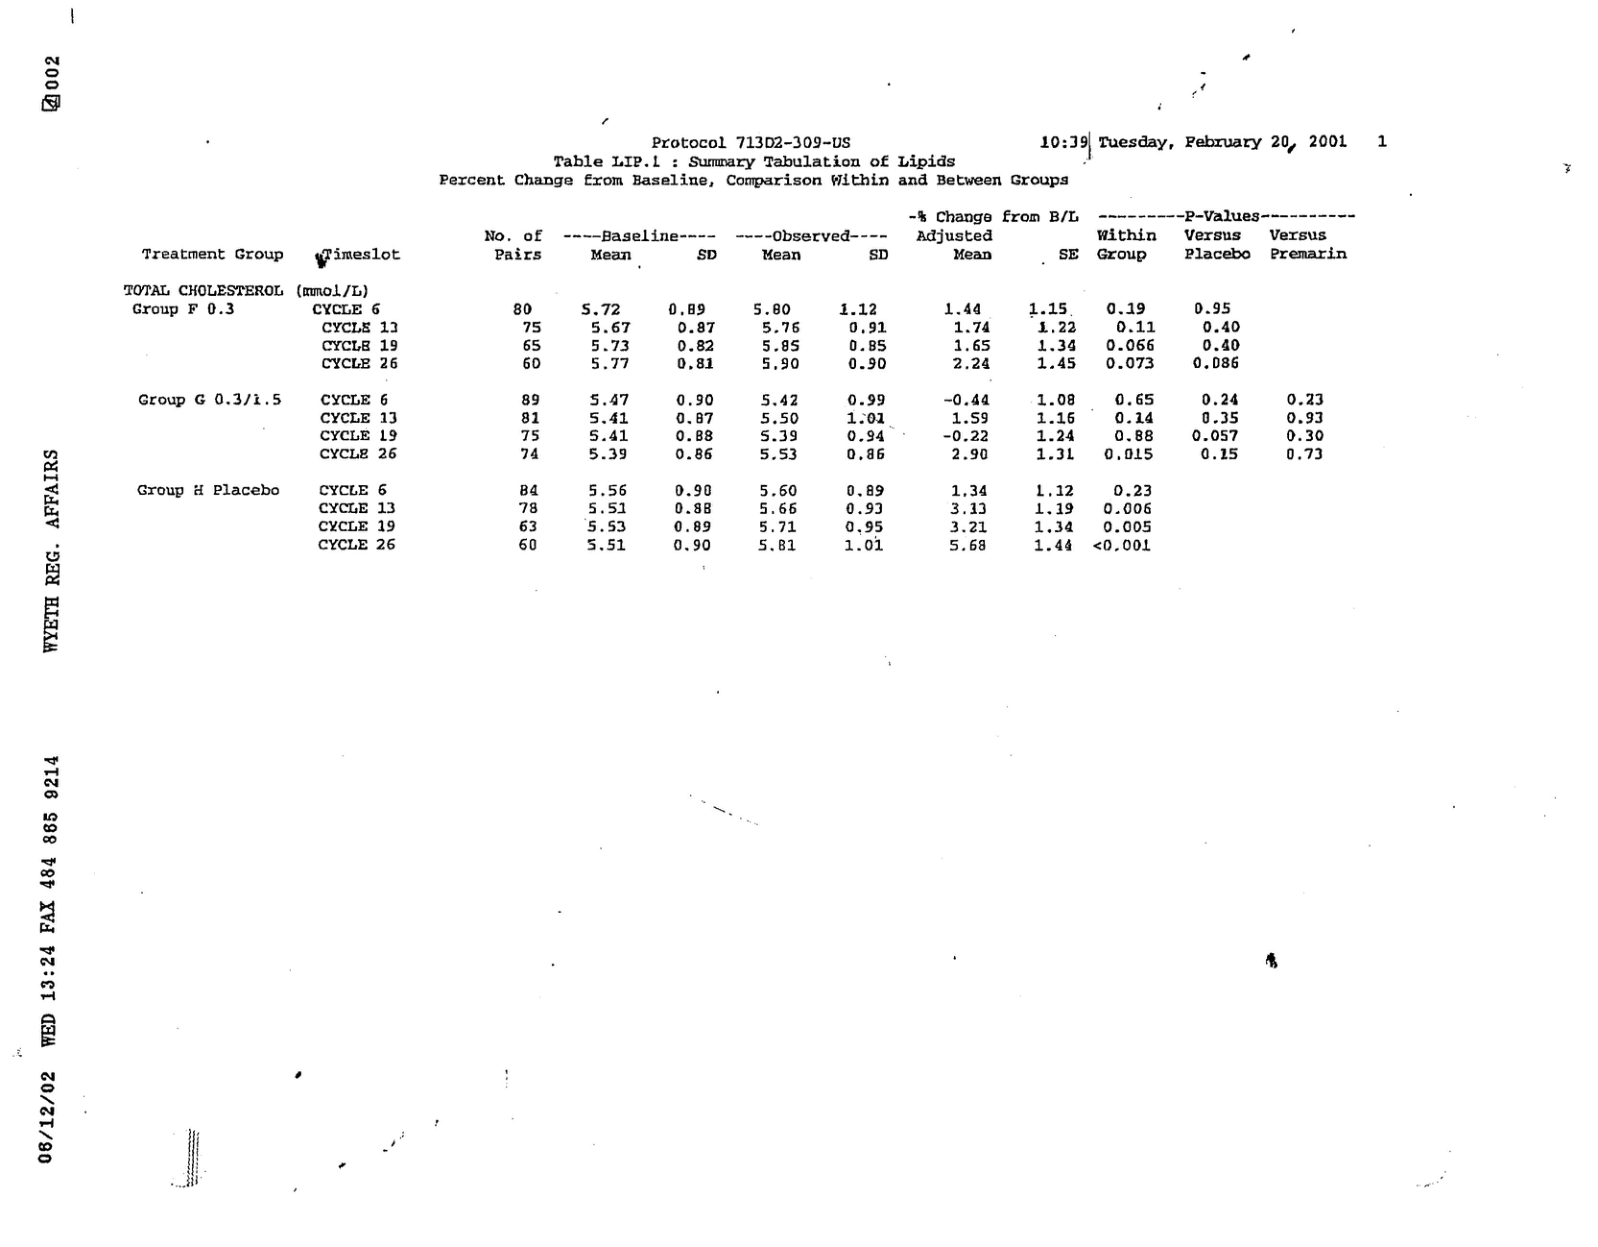nolines: (123, 208, 1361, 555)
